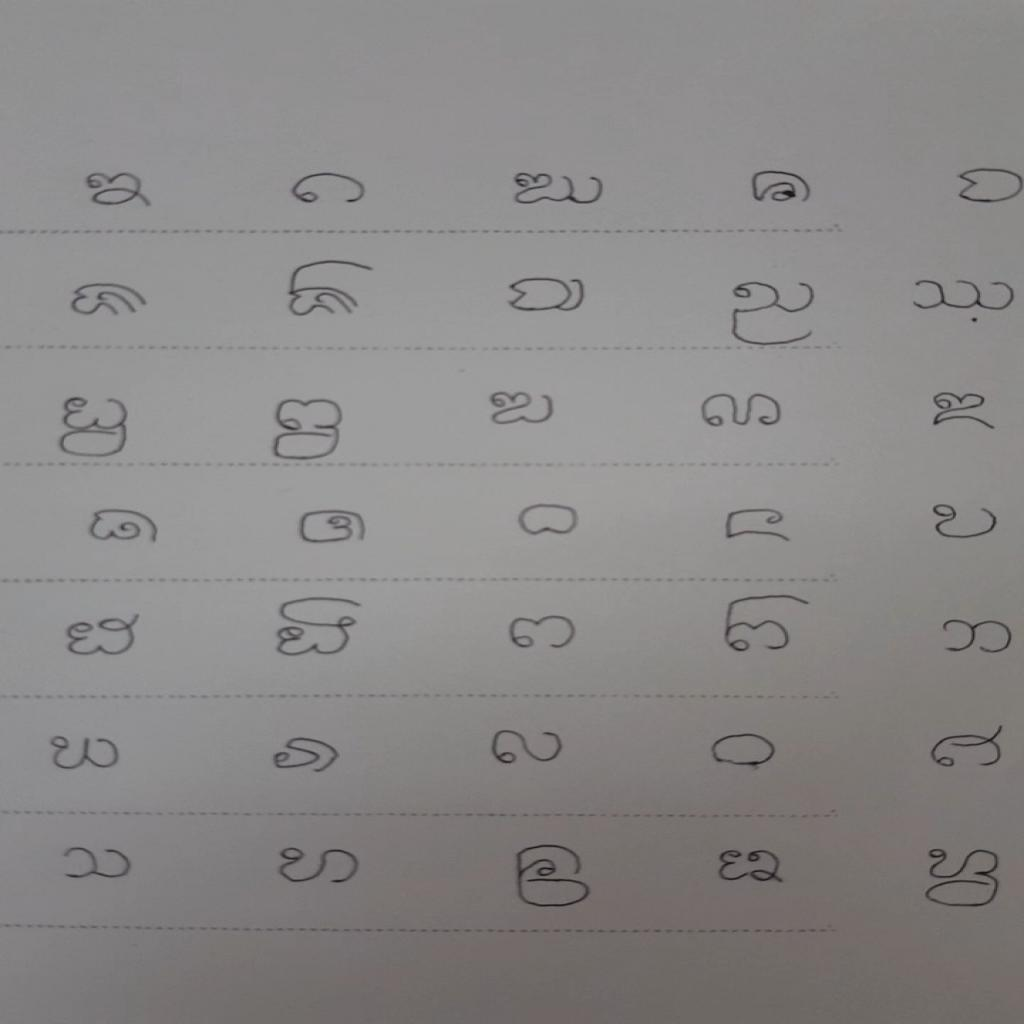LN002: (78, 168, 158, 211)
LN003: (287, 169, 371, 210)
LN004: (507, 169, 610, 210)
LN005: (747, 166, 816, 209)
LN008: (67, 280, 150, 322)
LN009: (280, 258, 379, 324)
LN010: (500, 273, 592, 317)
LN011: (725, 277, 820, 348)
LN012: (904, 273, 1019, 314)
LN014: (56, 392, 135, 463)
LN015: (269, 395, 346, 464)
LN016: (485, 388, 561, 430)
LN017: (696, 392, 788, 432)
LN018: (924, 389, 998, 433)
LN020: (84, 504, 165, 549)
LN021: (297, 506, 372, 549)
LN022: (510, 502, 585, 541)
LN023: (717, 506, 795, 546)
LN024: (927, 499, 1004, 543)
LN026: (60, 610, 147, 660)
LN027: (272, 595, 367, 660)
LN028: (502, 613, 579, 654)
LN029: (718, 591, 815, 658)
LN030: (937, 618, 1018, 658)
LN032: (44, 732, 124, 775)
LN033: (269, 735, 345, 779)
LN034: (487, 728, 569, 770)
LN035: (707, 729, 782, 770)
LN036: (924, 723, 1008, 774)
LN038: (54, 844, 138, 885)
LN039: (273, 846, 365, 889)
LN040: (512, 841, 595, 912)
LN041: (710, 846, 788, 889)
LN042: (923, 844, 1004, 913)
